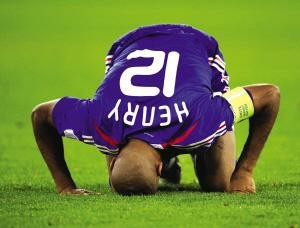falling: (18, 13, 285, 193)
